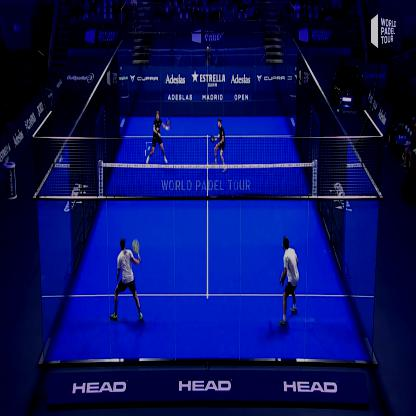ball: (146, 142, 153, 157)
